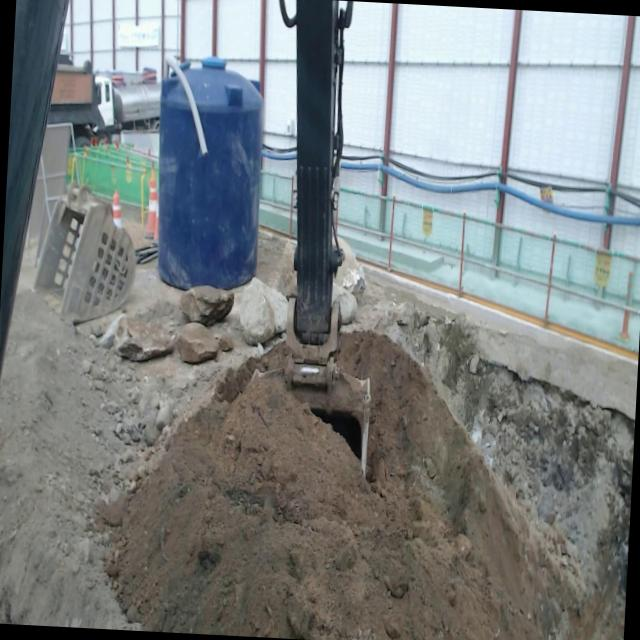red-sand: (106, 332, 624, 640)
stone: (101, 313, 176, 361), (240, 278, 288, 344), (180, 286, 234, 326), (175, 322, 219, 363)
white-sand: (0, 291, 139, 631)
